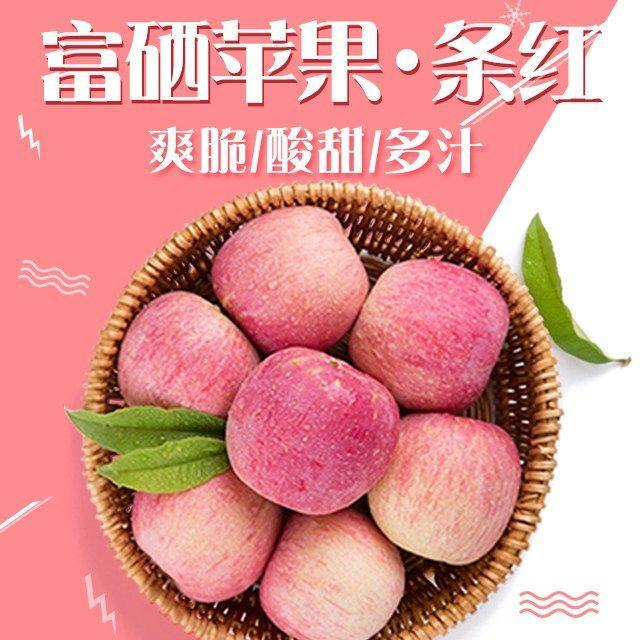apple: (226, 347, 400, 517), (351, 258, 511, 411), (360, 409, 520, 562), (210, 207, 370, 354), (129, 462, 281, 603), (259, 510, 404, 639), (117, 290, 259, 419)
